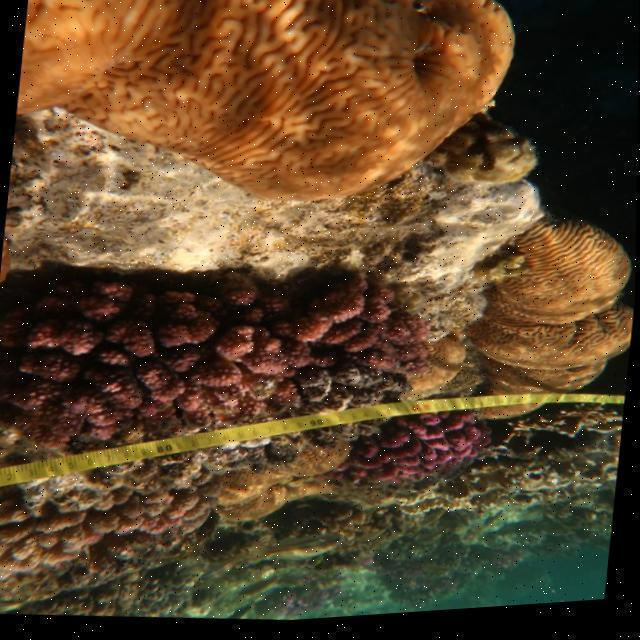Healthy Coral: (6, 0, 524, 248), (1, 235, 286, 474), (475, 218, 637, 438), (278, 263, 458, 391), (205, 431, 355, 543), (333, 404, 495, 507)
